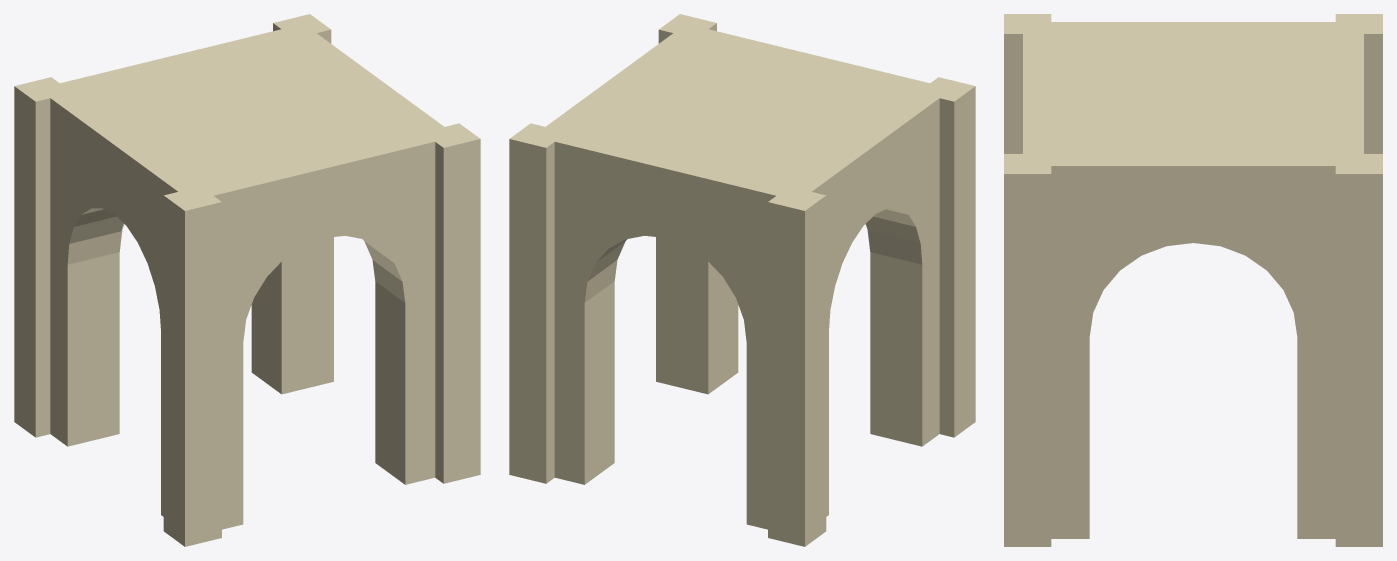
Rendered from towersquarearch.glb.
3 views of the same model, side by side, from view 1: azimuth 30°, elevation 25°; view 2: azimuth 150°, elevation 25°; view 3: azimuth 270°, elevation 25° (orthographic). The views are drawn at different scales.
Parts seen in each view (by area): view 1: towerSquareArch; view 2: towerSquareArch; view 3: towerSquareArch.
Part boxes in pixels (x1=…): towerSquareArch: x1=14, y1=14, x2=480, y2=546; towerSquareArch: x1=509, y1=14, x2=975, y2=546; towerSquareArch: x1=1004, y1=14, x2=1382, y2=546.
Size of the model in its own units: 9.3 by 10.1 by 9.3.
